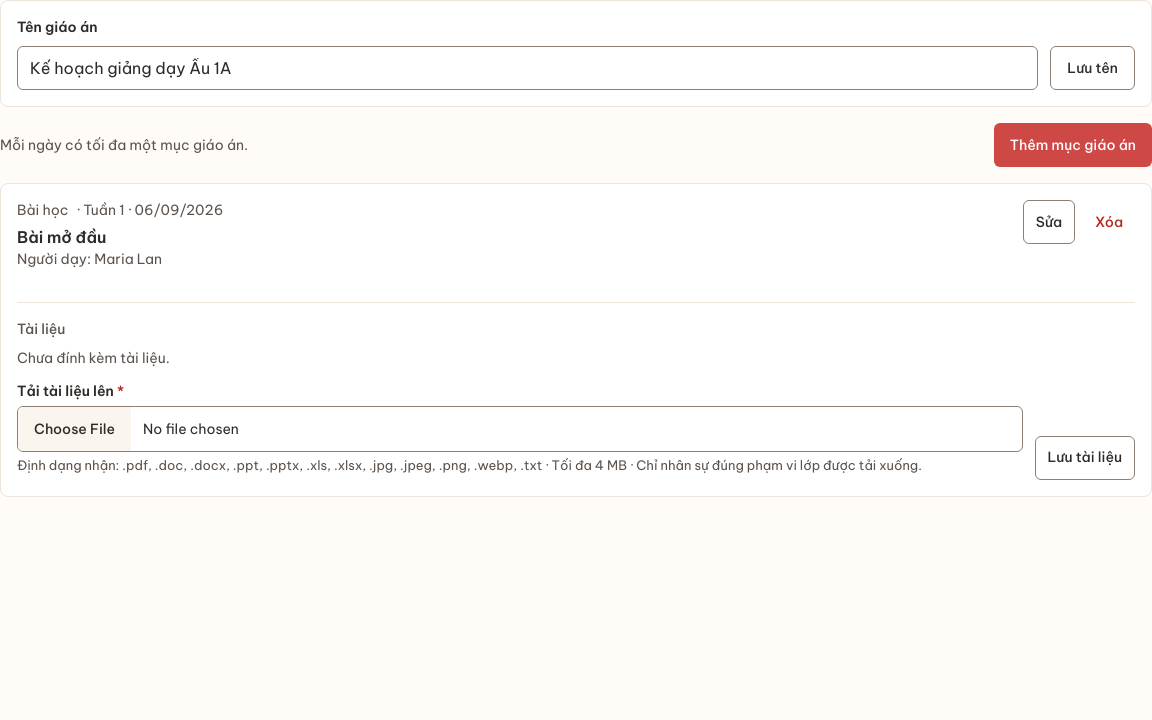
Scenario: chống ghi đè khi hai người cùng sửa (M06-B · D-146 · TB-01/TB-02) › bản đã cũ thì báo rõ và mời tải lại, KHÔNG ghi đè
Click the button "Sửa".
click(1049, 222)  # box [1023,200,1075,244]
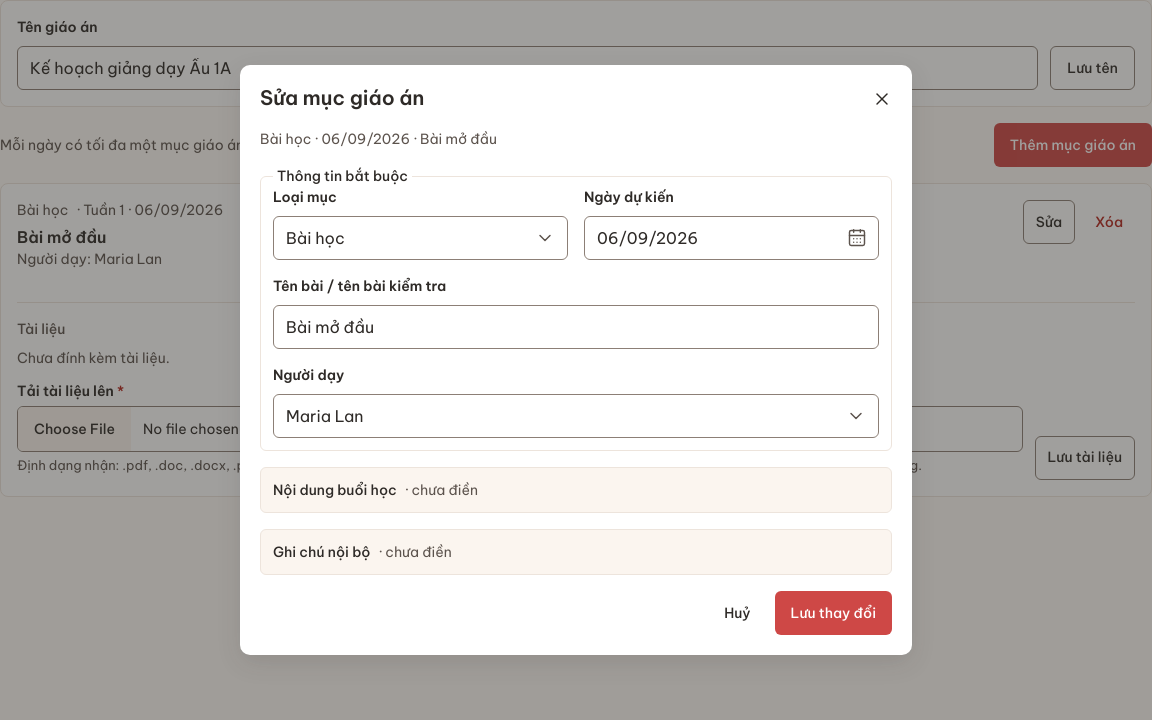
Click the button "Lưu thay đổi".
click(833, 613)  # box [775,591,892,635]
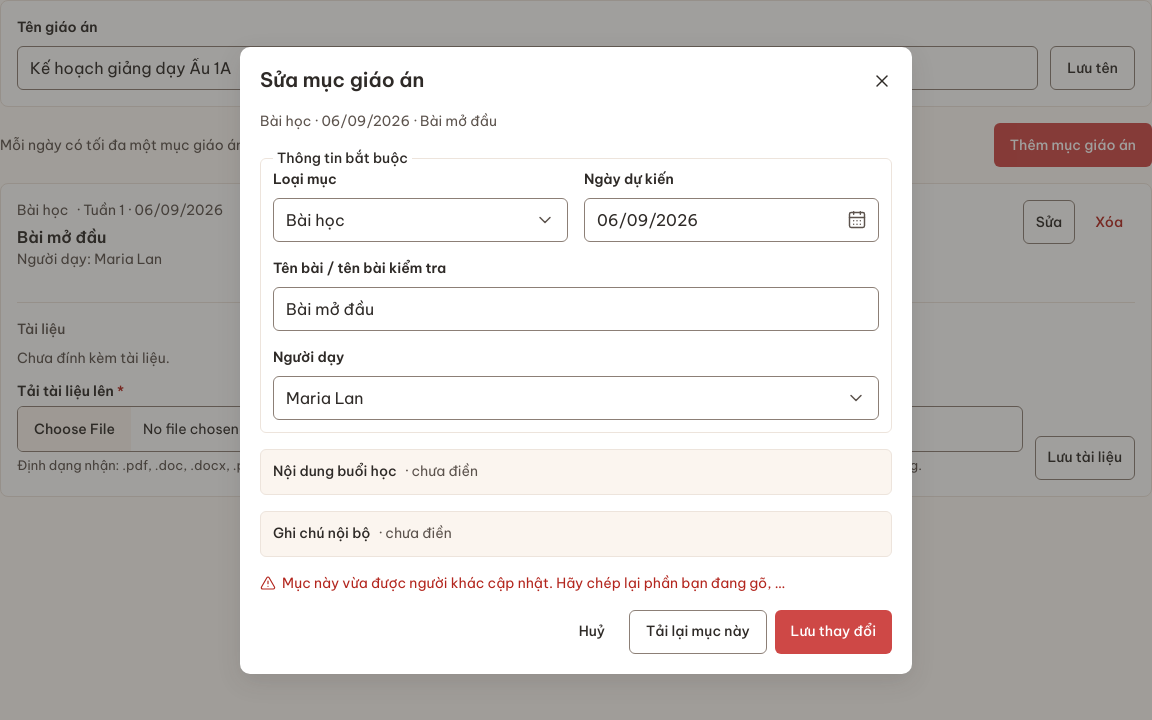
Check: the button "Tải lại mục này" is shown, box [629,610,767,654]
